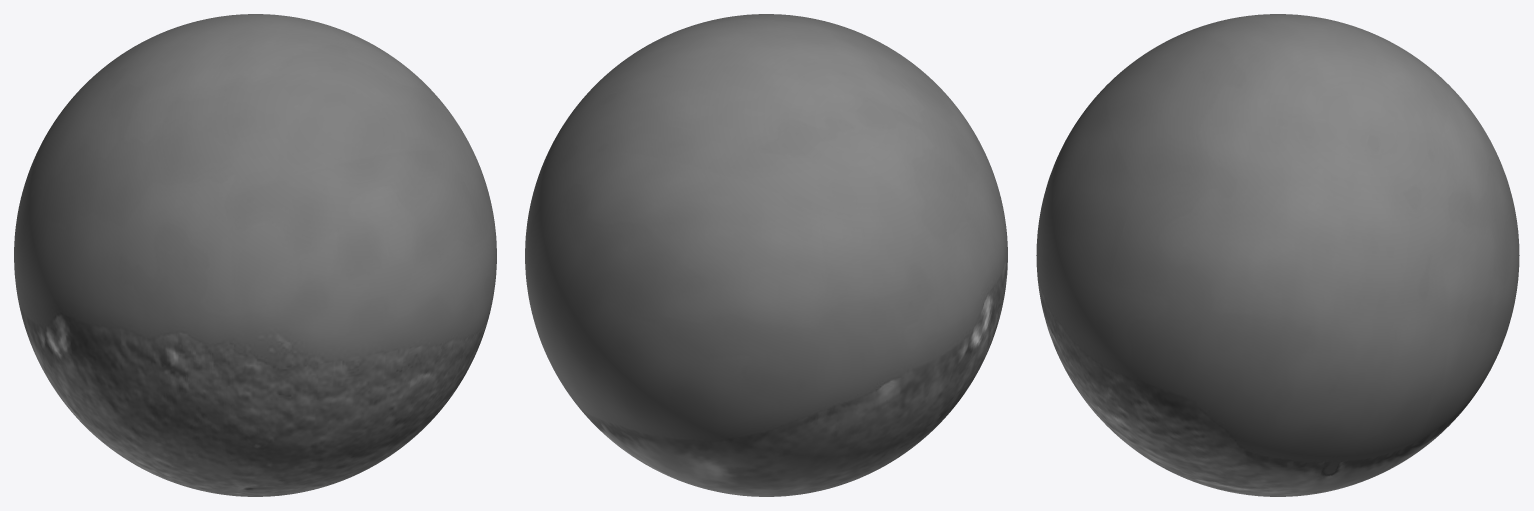
Rendered from umbriel.glb.
The picture shows the model from 3 angles, left to right: view 1: azimuth 30°, elevation 25°; view 2: azimuth 150°, elevation 25°; view 3: azimuth 270°, elevation 25°; orthographic projection.
Visible parts, largest first — view 1: umbriel_globe; view 2: umbriel_globe; view 3: umbriel_globe.
Part boxes in pixels (<box>): umbriel_globe: <box>14,14,496,496</box>; umbriel_globe: <box>525,14,1007,496</box>; umbriel_globe: <box>1036,14,1519,496</box>.
Size of the model in its own units: 2 by 2 by 2.
Materials: 1 (1 with a texture image).
